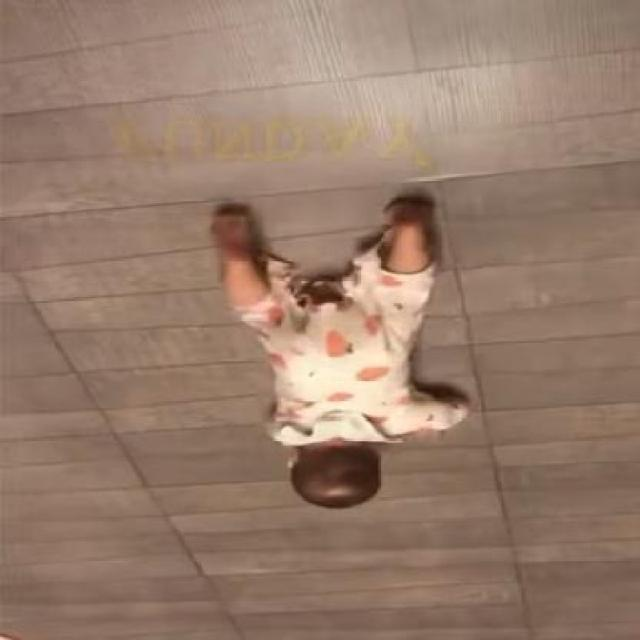baby: (206, 195, 472, 512)
